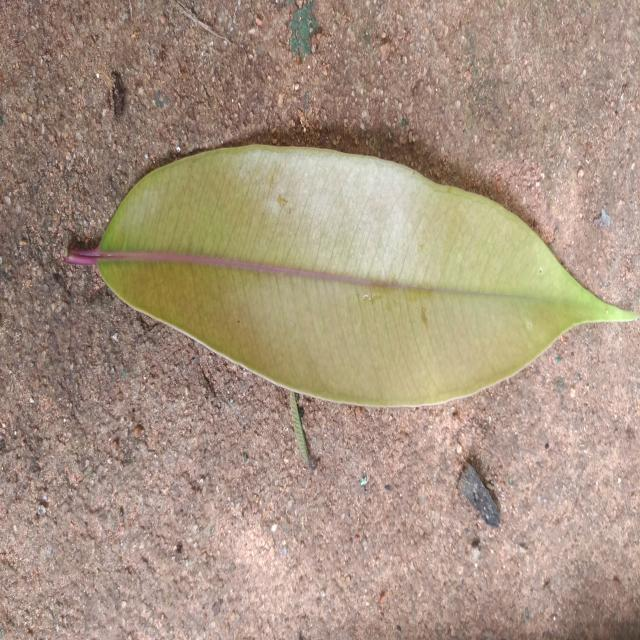nerale: (80, 147, 635, 407)
